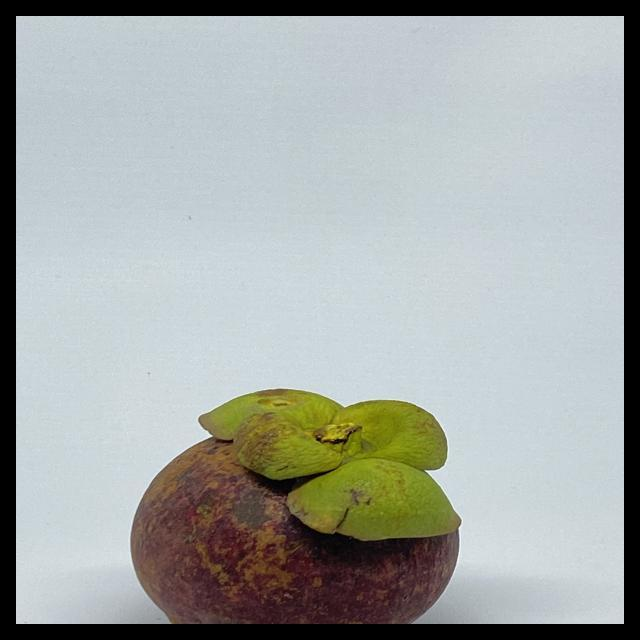mangosteen: (89, 346, 511, 624)
